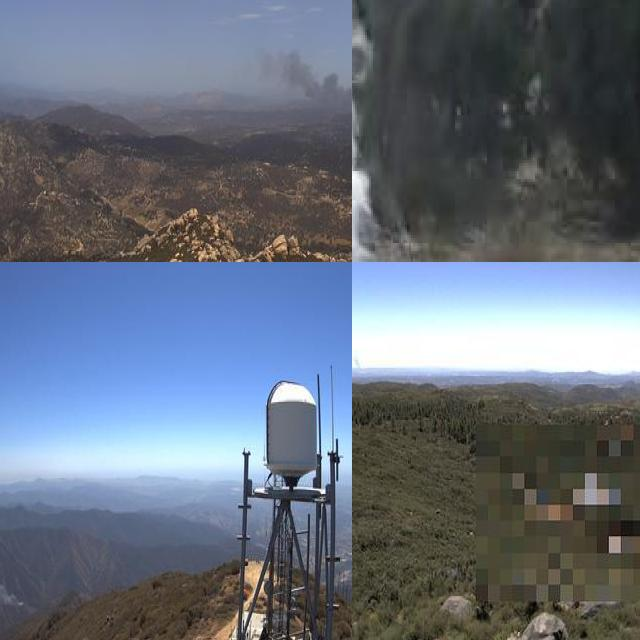smoke: (352, 0, 425, 262), (256, 44, 352, 112), (0, 530, 45, 616), (352, 346, 366, 376)
